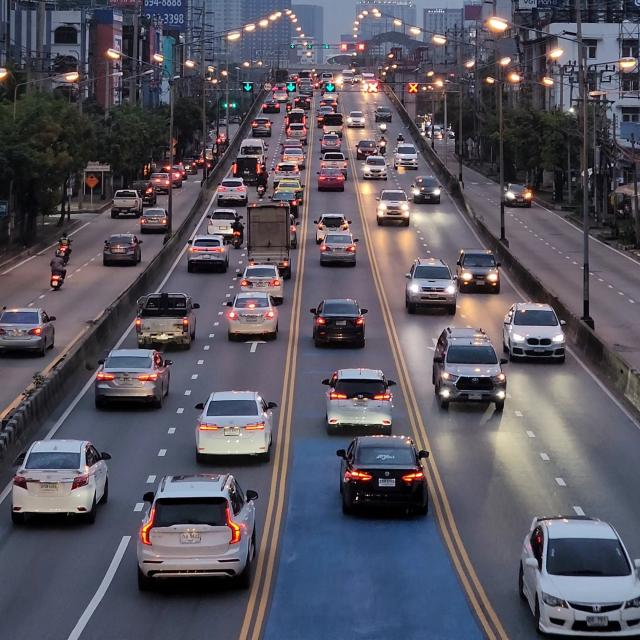Car: (518, 510, 640, 640), (135, 474, 264, 586), (13, 441, 114, 523), (338, 435, 430, 519), (432, 328, 506, 415), (321, 365, 402, 437), (196, 392, 274, 462), (94, 348, 174, 412), (503, 302, 571, 366), (134, 290, 202, 347), (247, 201, 296, 279), (405, 257, 464, 314), (223, 292, 286, 343), (0, 305, 56, 358), (236, 263, 291, 308), (458, 244, 503, 295), (183, 233, 230, 276), (99, 231, 145, 269), (377, 188, 414, 228), (203, 206, 244, 239), (414, 171, 444, 208), (135, 207, 176, 234), (361, 154, 394, 180)
